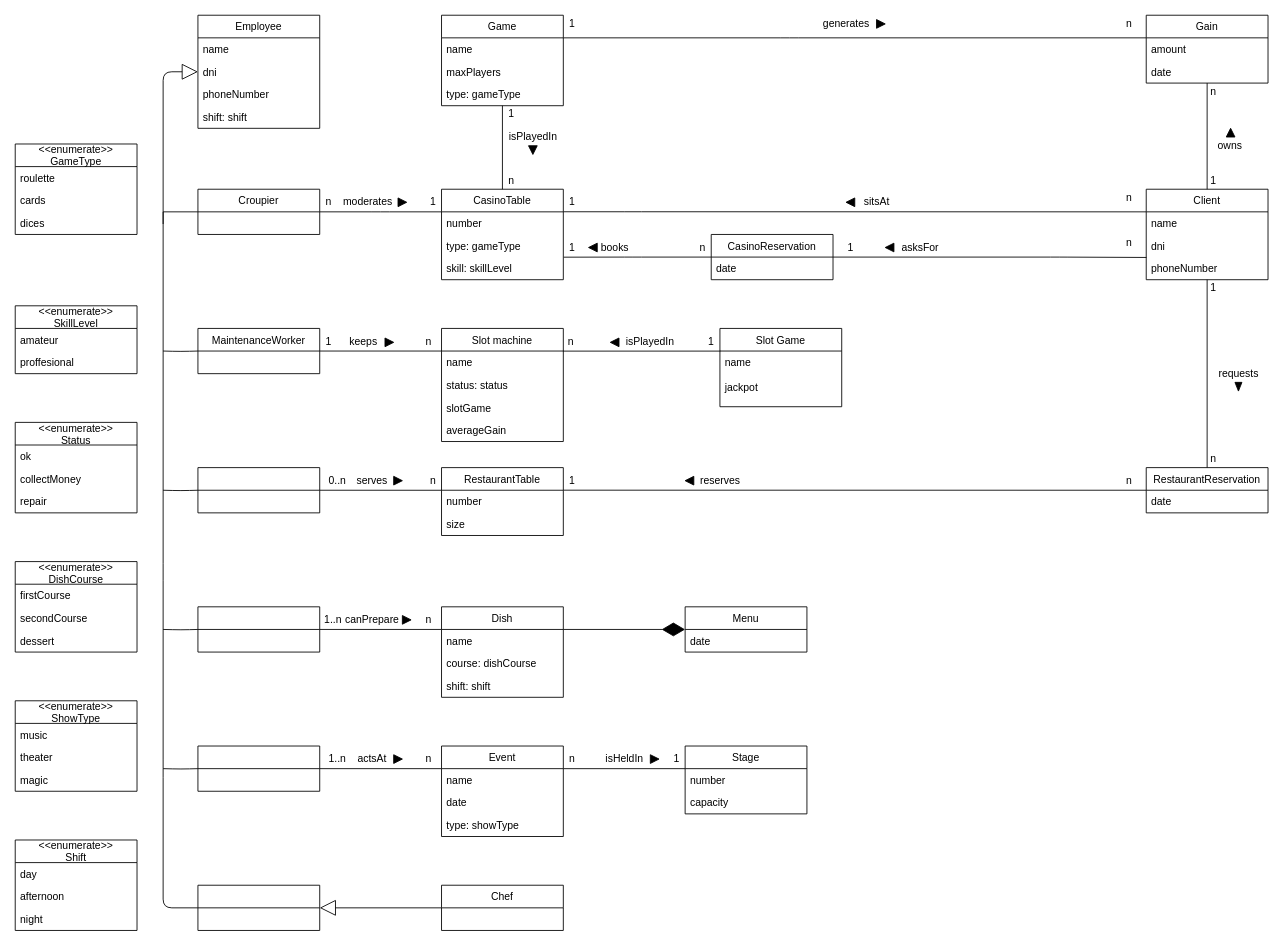
The diagram is 1283 pixels wide and 948 high, and some of its shapes have lost their labels. The centre of each missing label's shape, as x and y in pixels:
Administrator: (x=258, y=907)
Artist: (x=258, y=768)
Cook: (x=258, y=629)
Waiter: (x=258, y=490)
